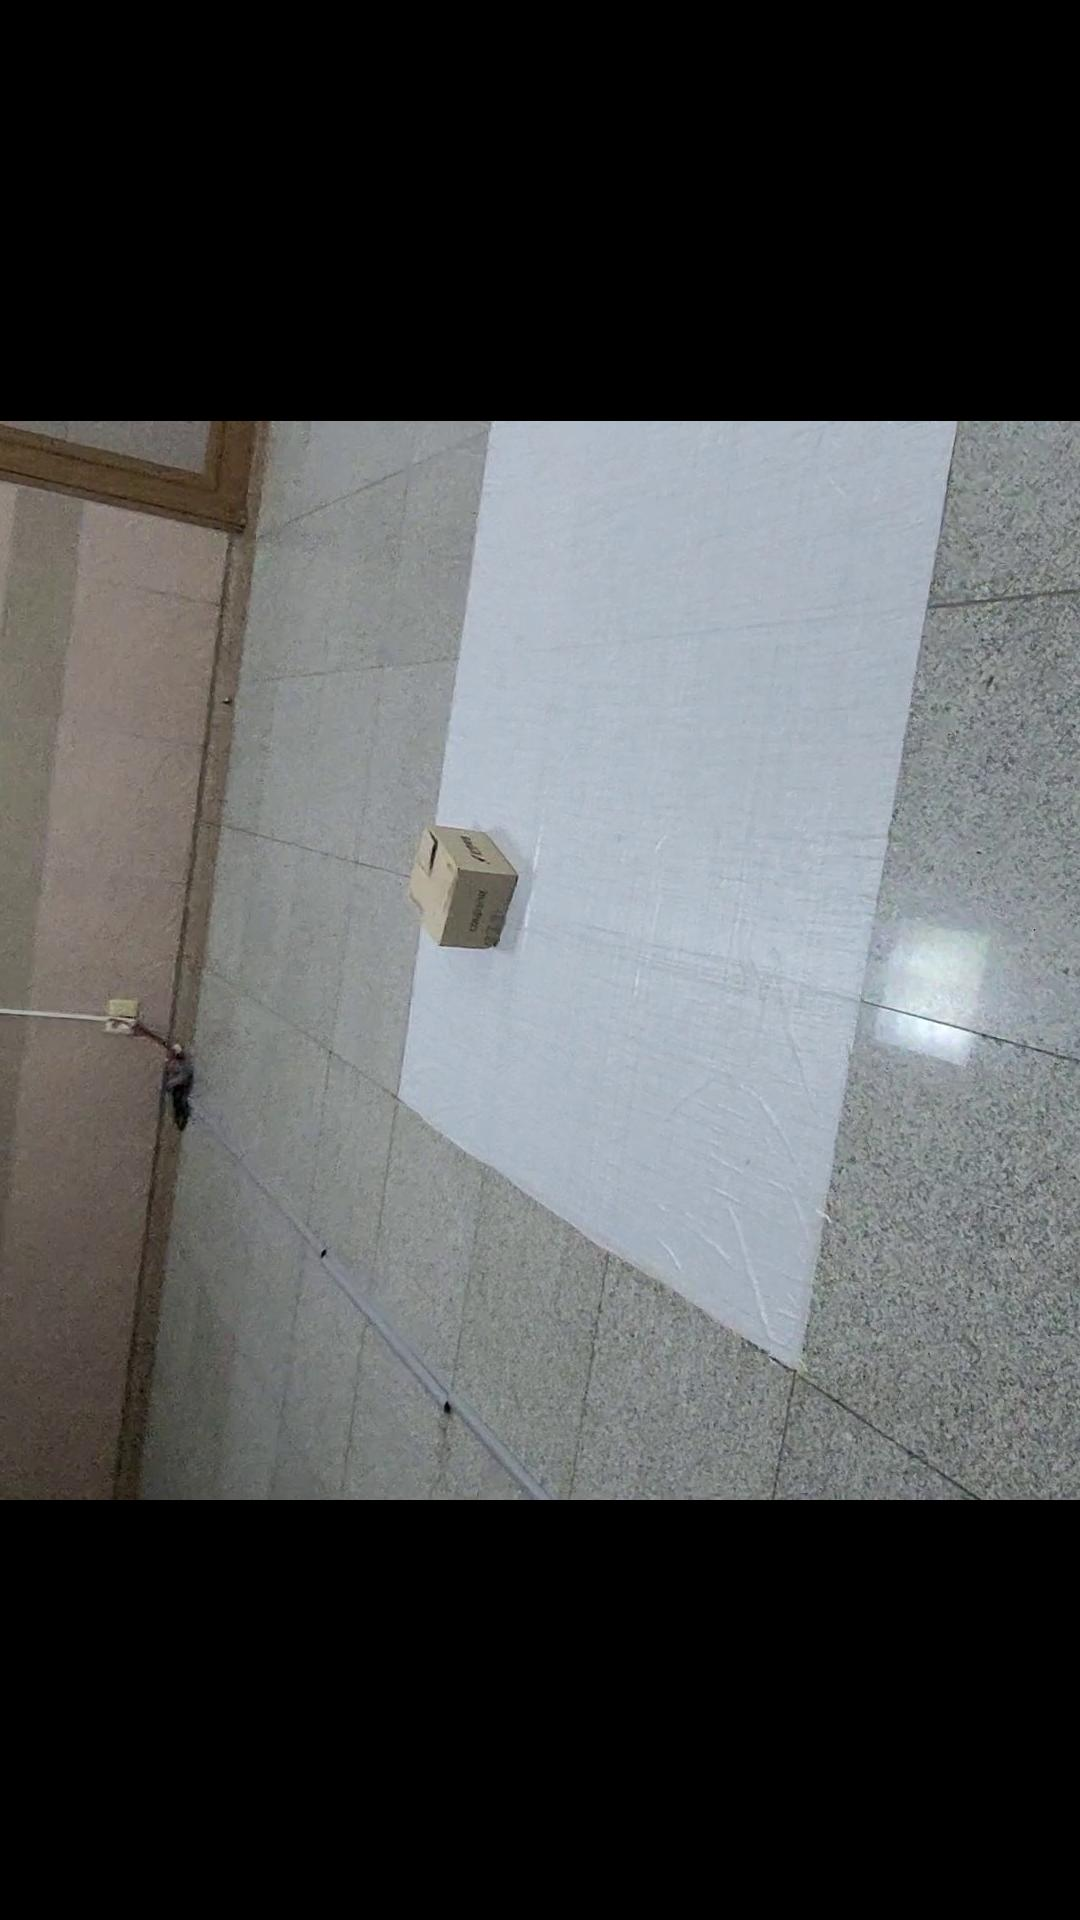Box: (388, 810, 541, 975)
